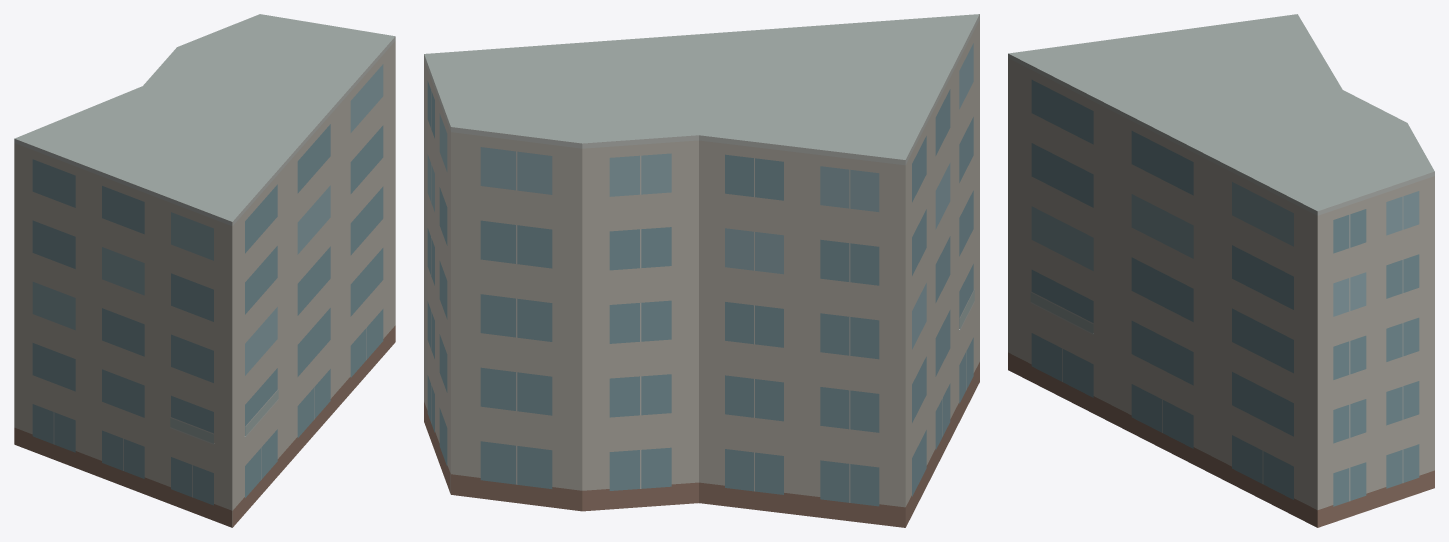
Rendered from survey-upis-32984951.glb.
3 renders of one model, left to right at view 1: azimuth 30°, elevation 25°; view 2: azimuth 150°, elevation 25°; view 3: azimuth 270°, elevation 25°, orthographic. The views are drawn at different scales.
Visible parts, largest first — view 1: survey-upis-32984951.tmp; view 2: survey-upis-32984951.tmp; view 3: survey-upis-32984951.tmp.
Boxes of the visible parts, x1,y1,x2,y2 form: survey-upis-32984951.tmp: (14,14,395,527); survey-upis-32984951.tmp: (424,14,979,527); survey-upis-32984951.tmp: (1008,14,1434,527).
Size of the model in its own units: 23 by 17.2 by 21.03.
